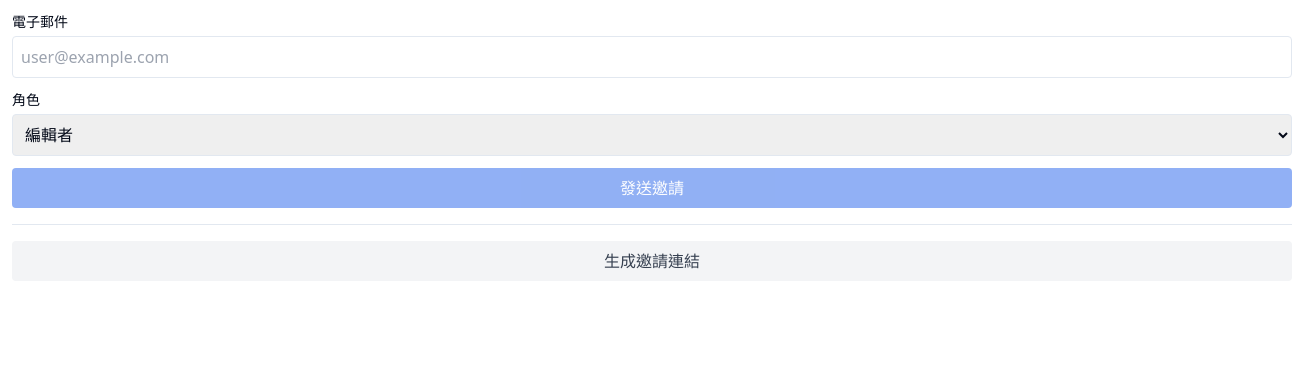
Test: MemberInvite › generates invite link
Click the button "生成邀請連結" at (652, 261), box top-left (12, 241), bottom-right (1292, 281)
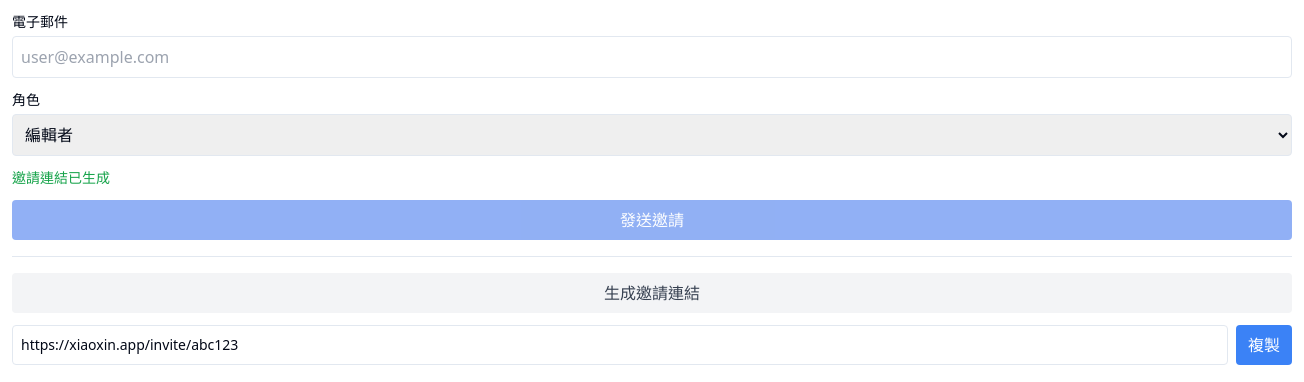
Result: the field showing "https://xiaoxin.app/invite/abc123" is shown at top-left (12, 325), bottom-right (1228, 365)
